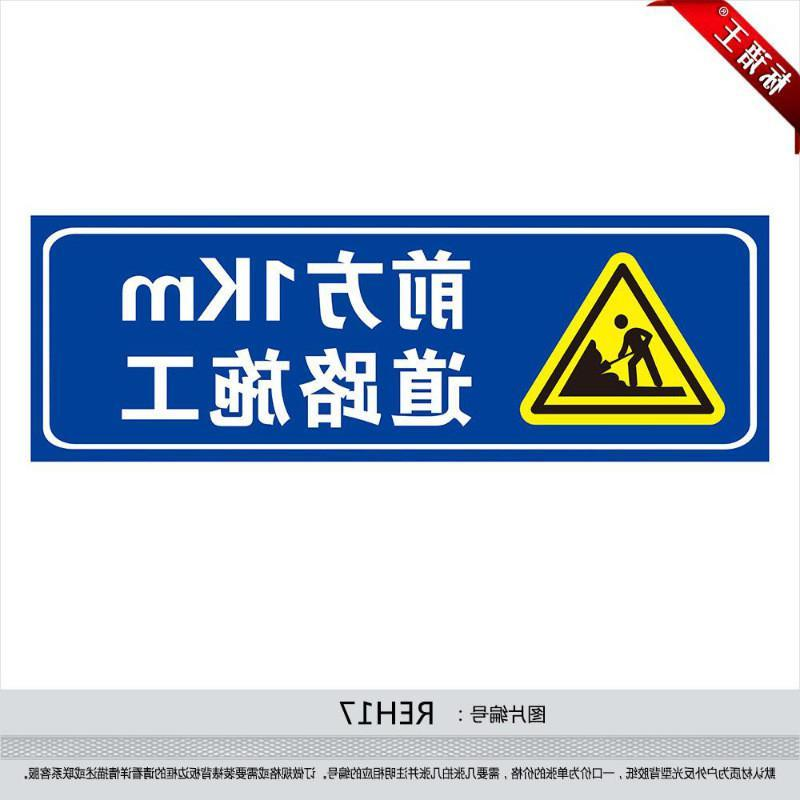sign: (37, 223, 757, 455)
